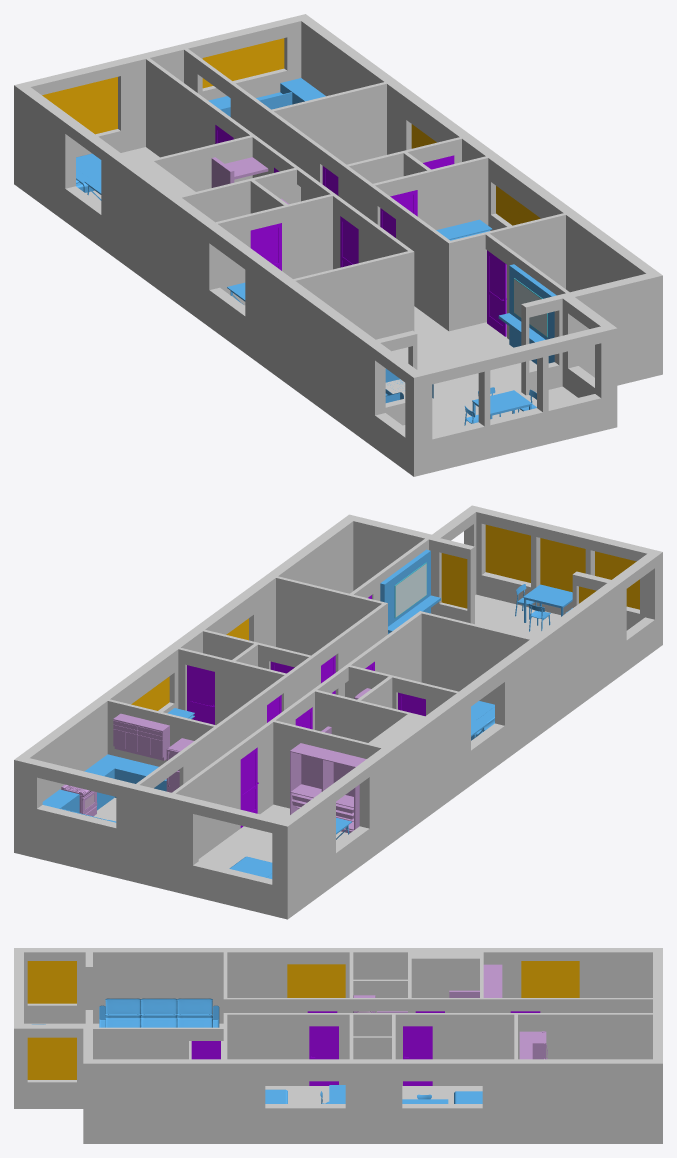
File: unit.glb
The picture shows the model from 3 angles, top to bottom: view 1: azimuth 30°, elevation 25°; view 2: azimuth 150°, elevation 25°; view 3: azimuth 270°, elevation 25°; orthographic projection. The views are drawn at different scales.
Bounding box in the file's own units: 8.46 × 2.74 × 20.08.
